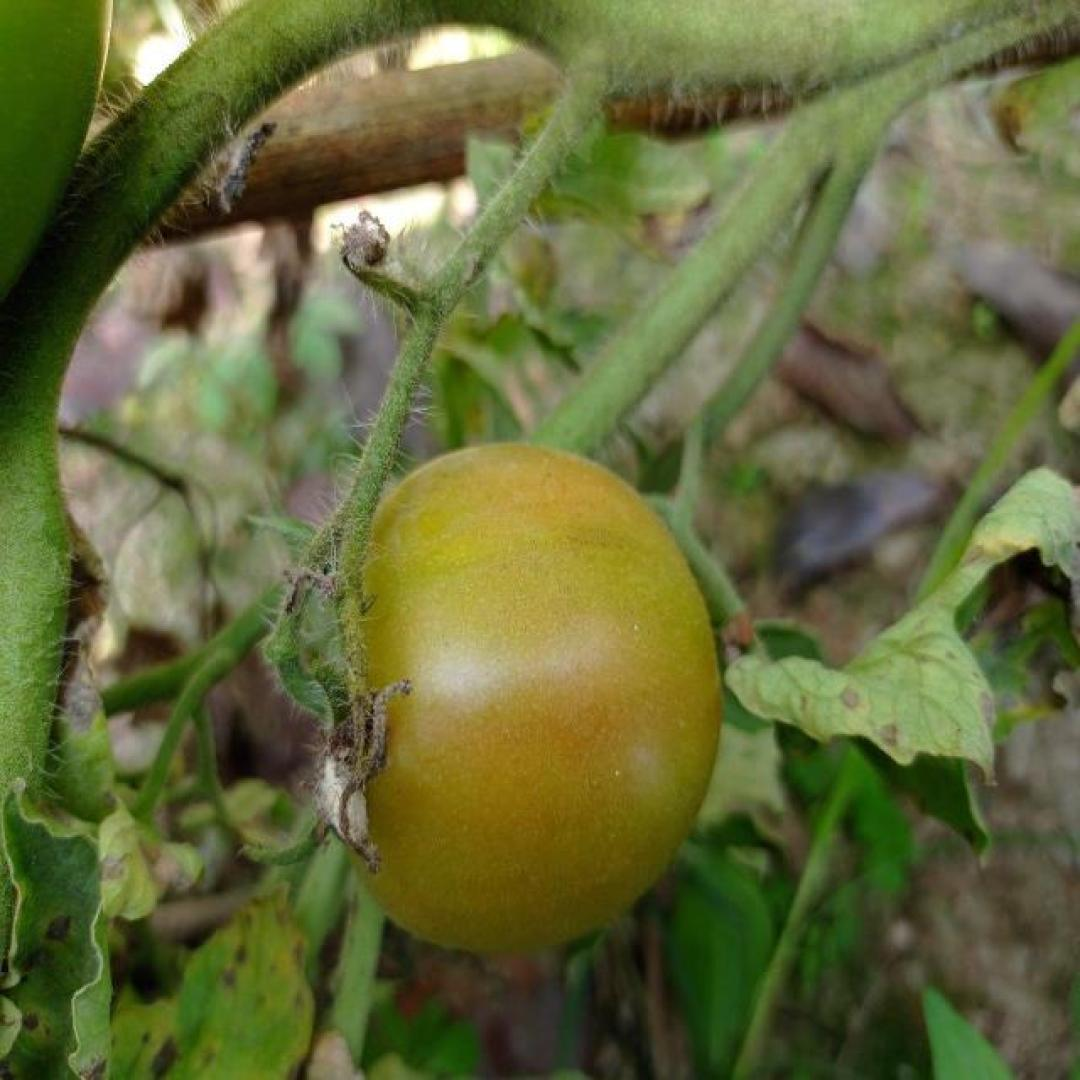setengah_matang: (314, 437, 726, 959)
